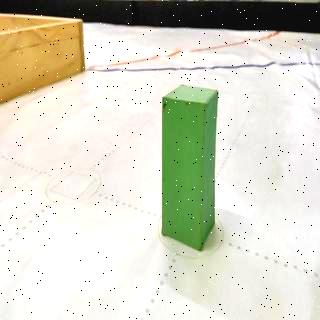greenbox: (161, 83, 221, 251)
